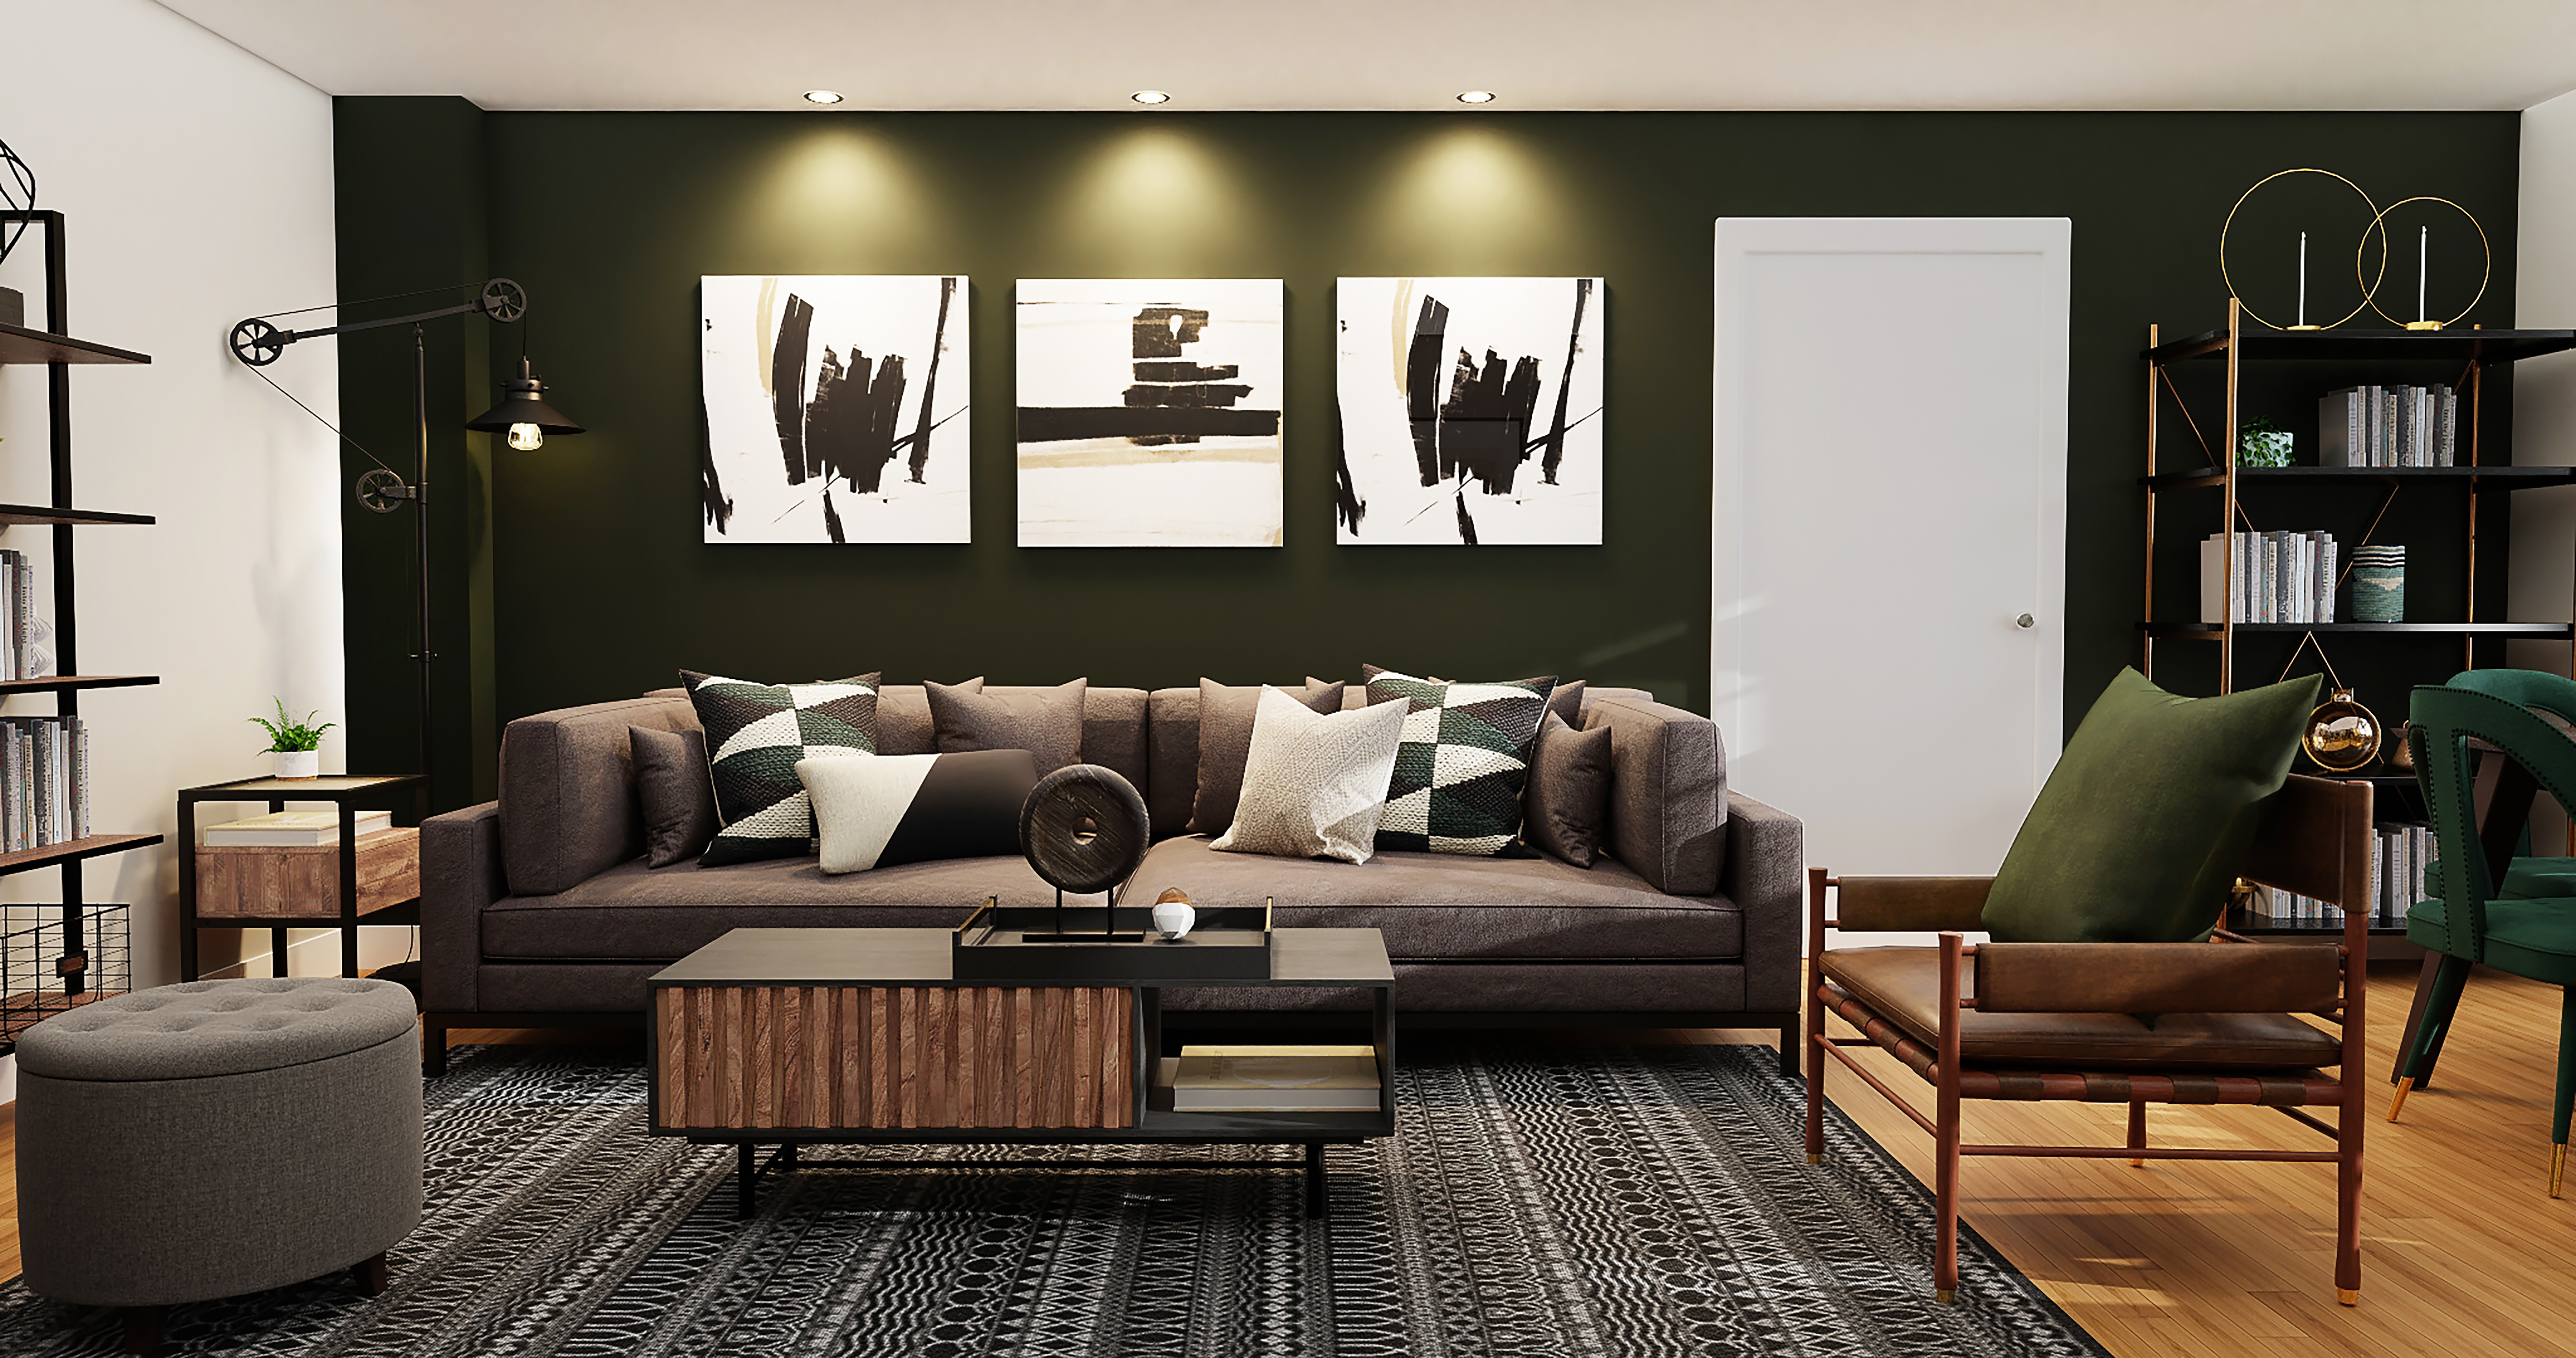Chair: (1760, 702, 2447, 1343), (9, 962, 480, 1334)
Painting: (669, 237, 990, 569), (996, 240, 1304, 569), (1317, 243, 1619, 564)
Sofa: (351, 585, 1835, 1094)
Table: (645, 890, 1445, 1205)
